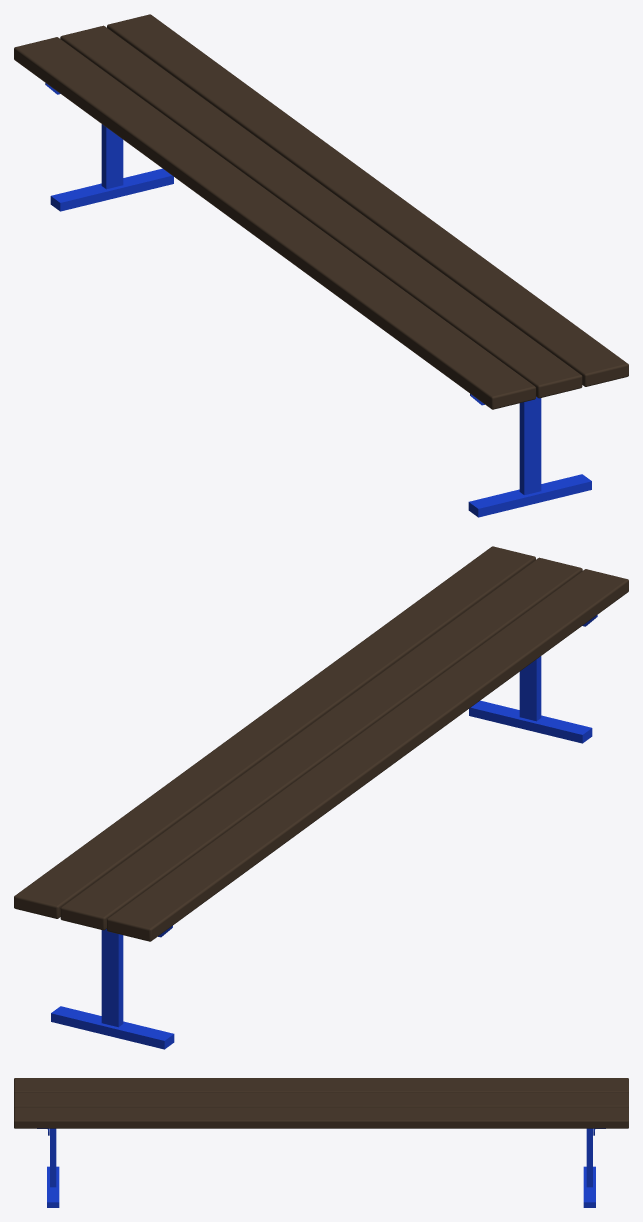
File: TNK-06.dae
3 renders of one model, top to bottom at view 1: azimuth 30°, elevation 25°; view 2: azimuth 150°, elevation 25°; view 3: azimuth 270°, elevation 25°, orthographic. The views are drawn at different scales.
Visible parts, largest first — view 1: korichnivieelementy, sinieelementy; view 2: korichnivieelementy, sinieelementy; view 3: korichnivieelementy, sinieelementy.
Boxes of the visible parts, bbox=[...] form: korichnivieelementy: bbox=[14, 14, 628, 409]; sinieelementy: bbox=[45, 83, 591, 517]; korichnivieelementy: bbox=[14, 546, 628, 941]; sinieelementy: bbox=[51, 615, 597, 1049]; korichnivieelementy: bbox=[14, 1078, 628, 1128]; sinieelementy: bbox=[37, 1128, 605, 1207].
Bounding box in the file's own units: 32.68 × 32.16 × 197.
